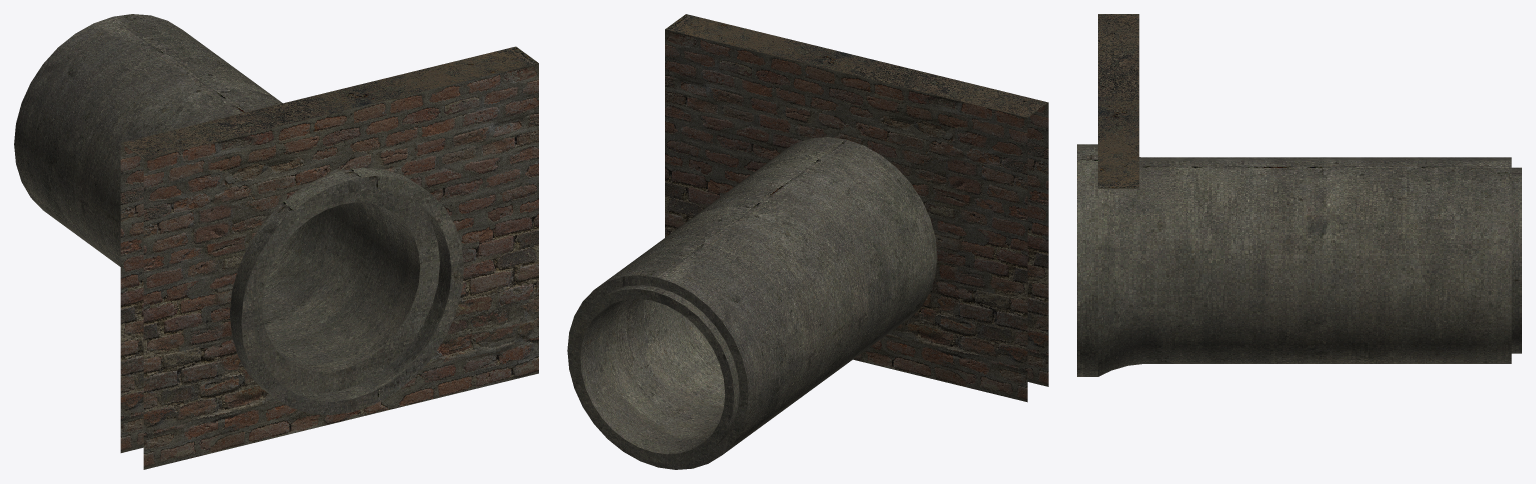
Rendered from wall_hr_1_hole_2.glb.
The picture shows the model from 3 angles, left to right: view 1: azimuth 30°, elevation 25°; view 2: azimuth 150°, elevation 25°; view 3: azimuth 270°, elevation 25°; orthographic projection. The views are drawn at different scales.
Visible parts, largest first — view 1: wall_hr_1_hole_2; view 2: wall_hr_1_hole_2; view 3: wall_hr_1_hole_2.
Part boxes in pixels (x1,y1,x2,y2): wall_hr_1_hole_2: (14, 14, 538, 469); wall_hr_1_hole_2: (567, 14, 1048, 469); wall_hr_1_hole_2: (1077, 14, 1521, 376).
Size of the model in its own units: 4 by 3 by 4.3.
Materials: 3 (3 with a texture image).
